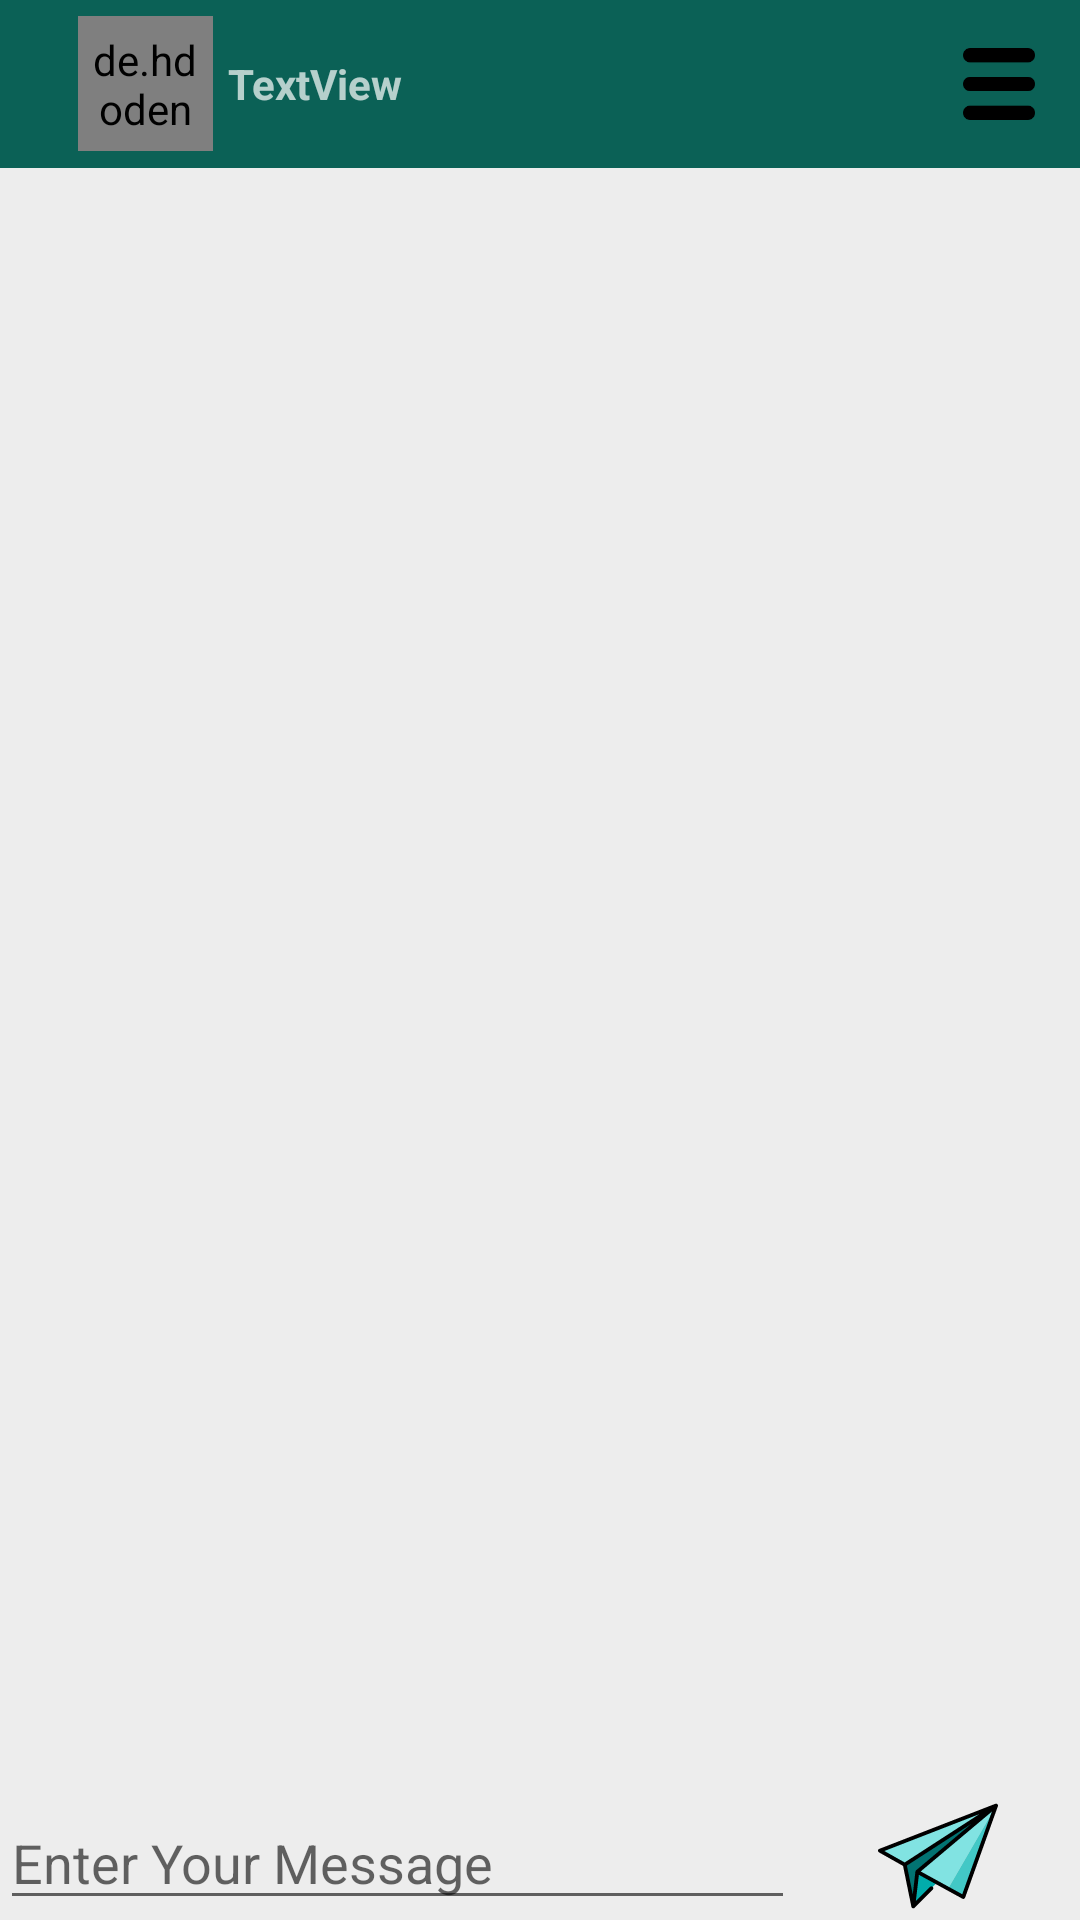

Screen size 1080 x 1920. Icon name, then its box in pixels as [x1,y1,x2,y2]:
menu: [963,48,1035,120]
send: [878,1803,998,1909]
